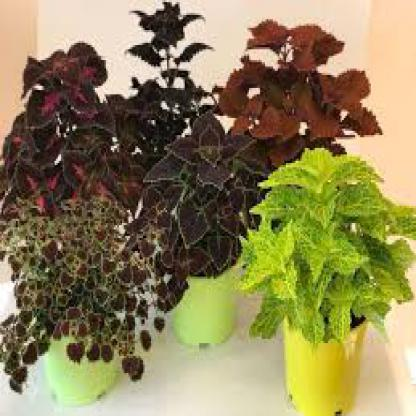Bunga Coleus: (249, 154, 416, 349), (22, 196, 153, 318), (228, 12, 359, 128), (166, 104, 239, 241), (33, 76, 112, 173), (125, 23, 183, 154)
